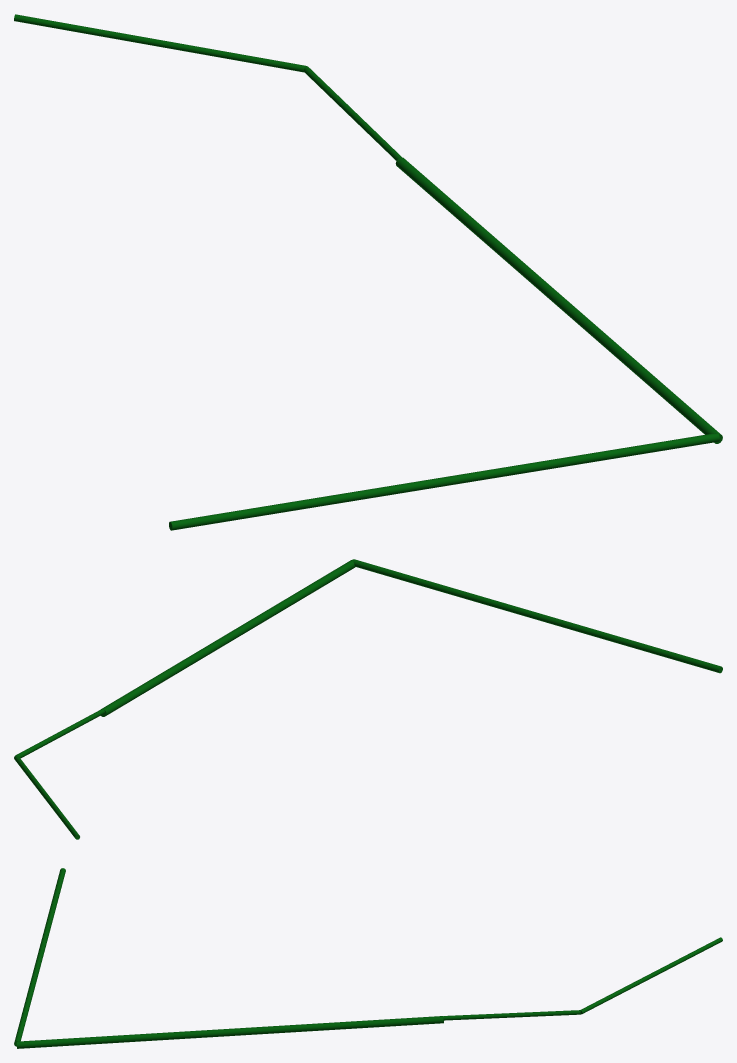
File: 729448d8-4efb-4f2a-ae3c-336b211e05d4.glb
3 renders of one model, top to bottom at view 1: azimuth 30°, elevation 25°; view 2: azimuth 150°, elevation 25°; view 3: azimuth 270°, elevation 25°, orthographic. The views are drawn at different scales.
Visible parts, largest first — view 1: 2711, 2707, 2702, 2703; view 2: 2711, 2707, 2702, 2703; view 3: 2707, 2711, 2702, 2703.
Part boxes in pixels (x1,y1,x2,y2): 2711: [170, 433, 719, 530]; 2707: [395, 157, 720, 434]; 2702: [14, 14, 305, 72]; 2703: [304, 66, 401, 160]; 2711: [352, 559, 720, 672]; 2707: [102, 560, 355, 716]; 2702: [14, 755, 79, 837]; 2703: [16, 709, 104, 758]; 2707: [16, 1016, 443, 1048]; 2711: [14, 868, 65, 1042]; 2702: [580, 937, 722, 1013]; 2703: [443, 1010, 580, 1020].
Bounding box in the file's own units: 15.5 × 2.33 × 27.1.
